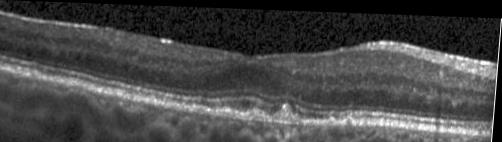retinal_drusen: (275, 103, 300, 121), (248, 109, 272, 119), (147, 94, 157, 104), (348, 115, 355, 123), (30, 71, 38, 77), (329, 117, 336, 122)
